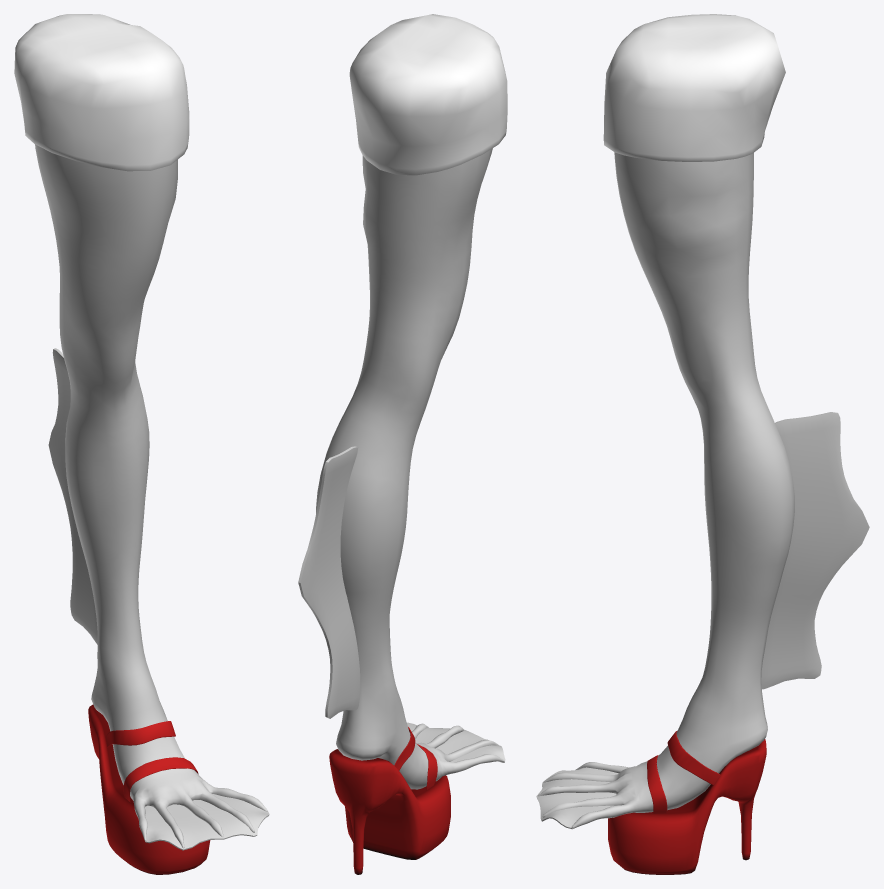
Rendered from seaLeg04_low.fbx.
The picture shows the model from 3 angles, left to right: view 1: azimuth 30°, elevation 25°; view 2: azimuth 150°, elevation 25°; view 3: azimuth 270°, elevation 25°; orthographic projection. The views are drawn at different scales.
Parts seen in each view (by area): view 1: legClean01_low, clothing_low, heel_low, backFin_low, toeFin_low; view 2: legClean01_low, clothing_low, heel_low, backFin_low, toeFin_low; view 3: legClean01_low, clothing_low, backFin_low, heel_low, toeFin_low.
Boxes of the visible parts, box(x1,y1,x2,y2) form: legClean01_low: box(35, 144, 267, 848); clothing_low: box(14, 14, 189, 171); heel_low: box(88, 704, 210, 874); backFin_low: box(48, 348, 97, 644); toeFin_low: box(145, 794, 269, 850); legClean01_low: box(316, 148, 504, 789); clothing_low: box(349, 14, 507, 175); heel_low: box(329, 727, 450, 874); backFin_low: box(298, 446, 360, 718); toeFin_low: box(407, 722, 505, 762); legClean01_low: box(538, 152, 794, 828); clothing_low: box(603, 14, 785, 161); backFin_low: box(761, 412, 869, 689); heel_low: box(608, 731, 766, 874); toeFin_low: box(536, 767, 618, 829).
Bounding box in the file's own units: 21.75 × 96.64 × 36.25.
